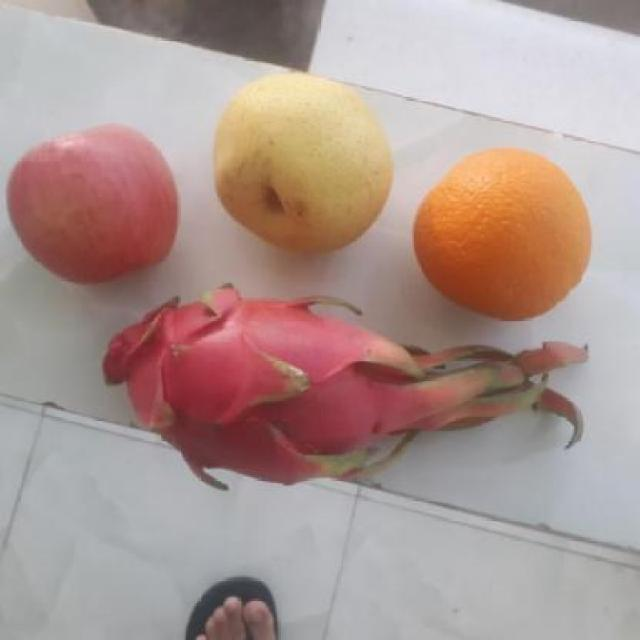apple: (0, 123, 178, 282)
dragon fruit: (111, 293, 397, 476)
oren: (410, 141, 596, 321)
pear: (204, 75, 398, 254)
